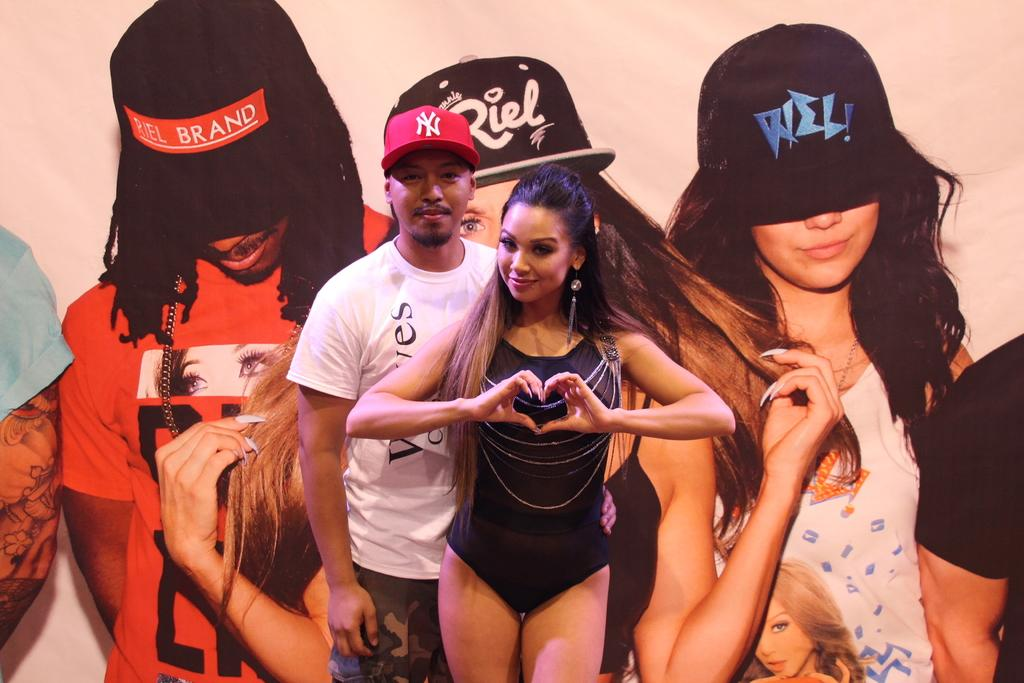Hat: (106, 0, 320, 246), (696, 17, 900, 209), (382, 48, 613, 187), (382, 102, 481, 170)
